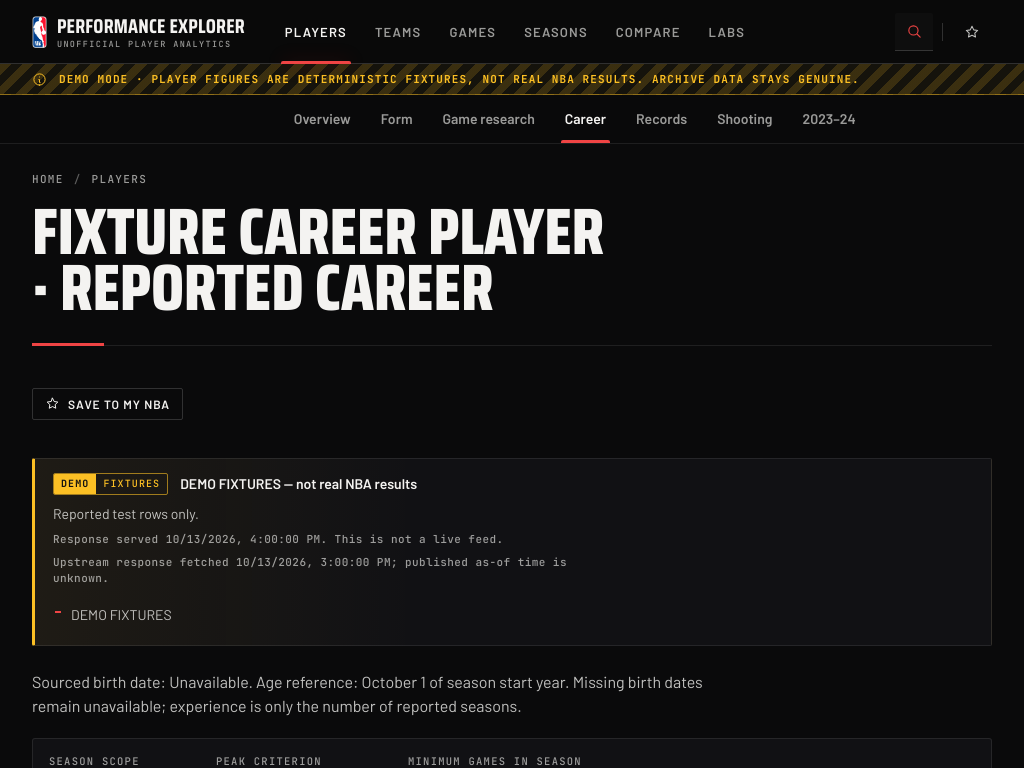
Scenario: career research › restores criteria, shows raw/weighted values and saves the explicit criterion
The width and height of the screenshot is (1024, 768).
Click the button "Save to My NBA" at (108, 404), box x1=32 y1=388 x2=183 y2=420
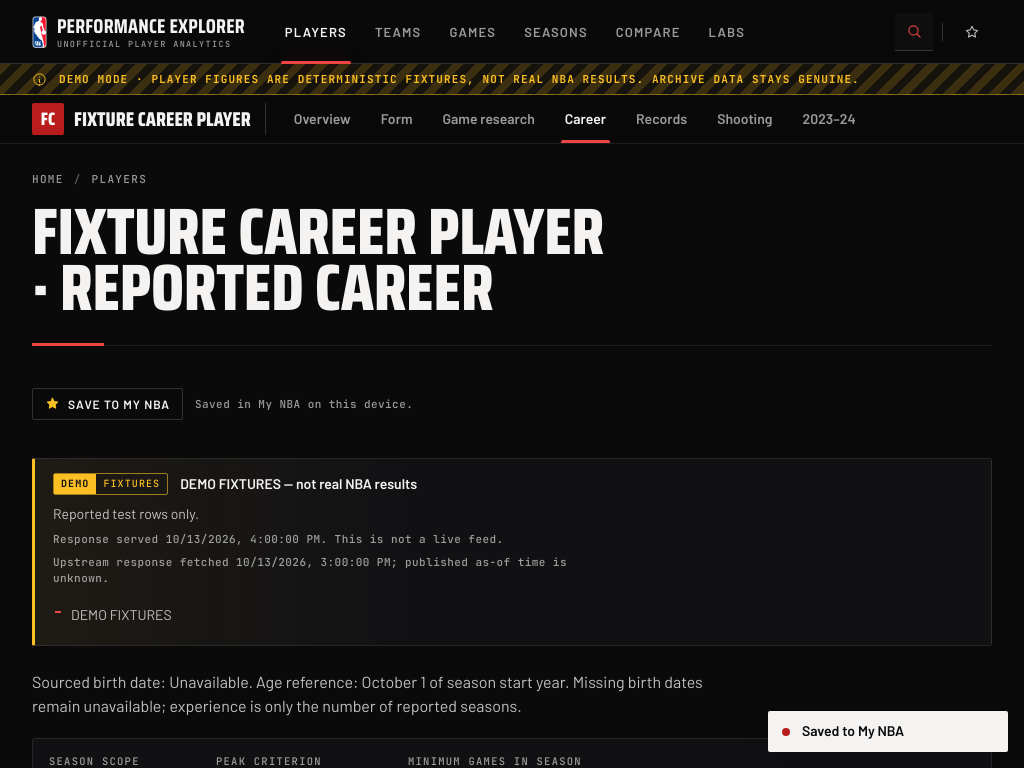
Result: the text "Saved in My NBA on this device." is shown at x1=195 y1=397 x2=413 y2=411
